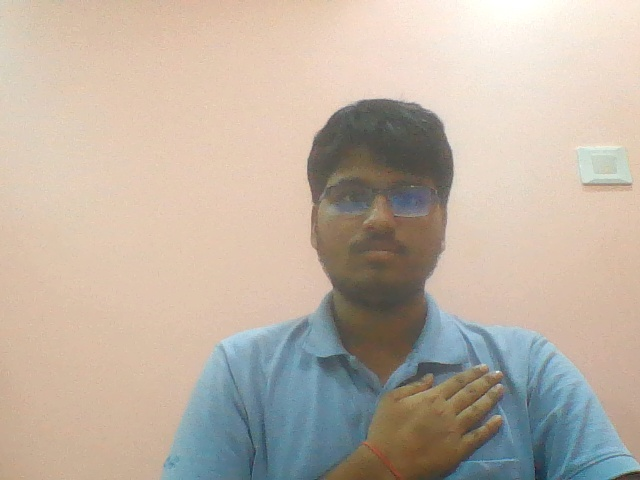please: (356, 362, 526, 480)
